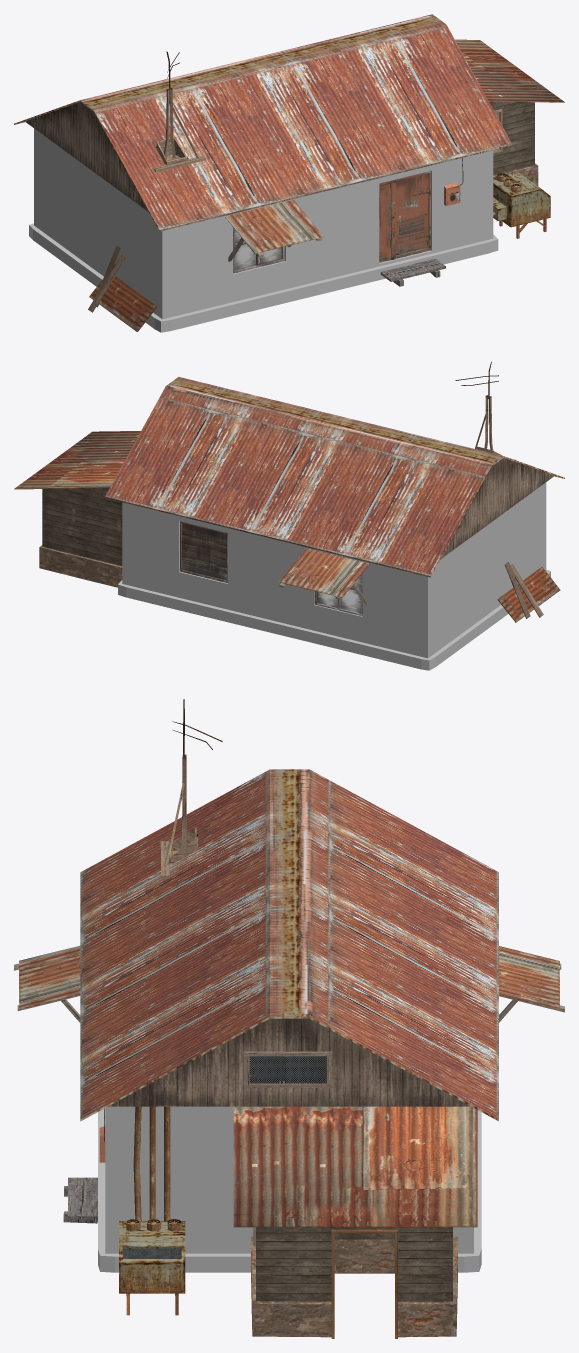
3 renders of one model, top to bottom at view 1: azimuth 30°, elevation 25°; view 2: azimuth 150°, elevation 25°; view 3: azimuth 270°, elevation 25°, orthographic. The views are drawn at different scales.
Visible parts, largest first — view 1: Cube.001, Cube, Cube.015, Cube.026, Cube.007, Cube.024, Door_Size, Cube.019, Cube.021, Cube.011, Cube.006, Cube.022 (+3 smaller); view 2: Cube.001, Cube, Cube.024, Cube.026, Cube.015, Cube.003, Cube.004, Cube.021, Cube.023, Cube.025; view 3: Cube.001, Cube.026, Cube, Cube.024, Cube.015, Cube.019, Cube.007, Cube.003, Cylinder.001, Cube.014, Cube.006, Cube.013 (+3 smaller).
Boxes of the visible parts, left/top/right/bottom form: Cube.001: left=14, top=14, right=512, bottom=231; Cube: left=29, top=128, right=498, bottom=332; Cube.015: left=26, top=102, right=148, bottom=211; Cube.026: left=455, top=39, right=564, bottom=102; Cube.007: left=225, top=200, right=323, bottom=253; Cube.024: left=489, top=101, right=538, bottom=185; Door_Size: left=395, top=173, right=428, bottom=255; Cube.019: left=493, top=172, right=550, bottom=227; Cube.021: left=89, top=276, right=157, bottom=331; Cube.011: left=379, top=171, right=430, bottom=262; Cube.006: left=380, top=259, right=445, bottom=286; Cube.022: left=153, top=137, right=205, bottom=172; Cube.001: left=105, top=377, right=564, bottom=577; Cube: left=118, top=482, right=550, bottom=670; Cube.024: left=39, top=488, right=122, bottom=587; Cube.026: left=14, top=431, right=140, bottom=489; Cube.015: left=440, top=458, right=553, bottom=559; Cube.003: left=279, top=548, right=369, bottom=597; Cube.004: left=182, top=523, right=226, bottom=580; Cube.021: left=497, top=567, right=560, bottom=622; Cube.023: left=505, top=562, right=543, bottom=618; Cube.025: left=455, top=361, right=498, bottom=450; Cube.001: left=80, top=769, right=498, bottom=1121; Cube.026: left=233, top=1106, right=477, bottom=1227; Cube: left=98, top=1106, right=481, bottom=1272; Cube.024: left=251, top=1227, right=457, bottom=1337; Cube.015: left=108, top=836, right=470, bottom=1106; Cube.019: left=119, top=1221, right=185, bottom=1293; Cube.007: left=19, top=945, right=80, bottom=1009; Cube.003: left=499, top=946, right=559, bottom=1009; Cylinder.001: left=133, top=1106, right=170, bottom=1221; Cube.014: left=249, top=1056, right=326, bottom=1083; Cube.006: left=63, top=1177, right=97, bottom=1223; Cube.013: left=243, top=1051, right=332, bottom=1087.
Bounding box in the file's own units: 14.43 × 7.26 × 9.96.
